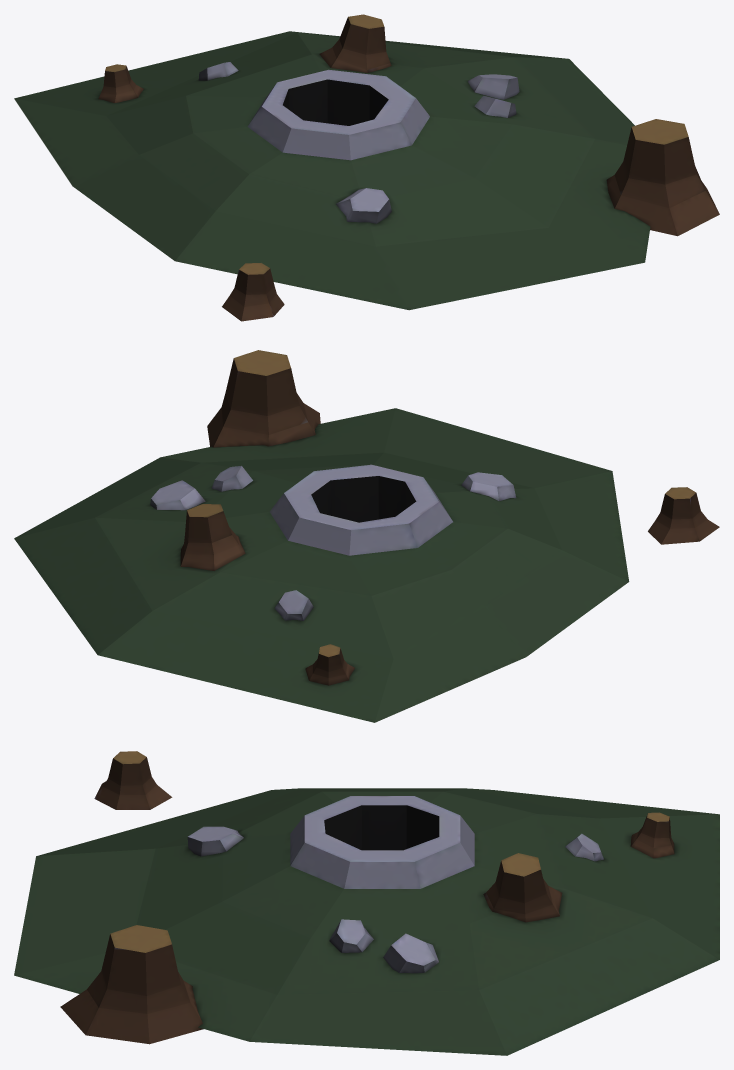
The model's file is waste_3_ruin.fbx.
The picture shows the model from 3 angles, top to bottom: view 1: azimuth 30°, elevation 25°; view 2: azimuth 150°, elevation 25°; view 3: azimuth 270°, elevation 25°; orthographic projection. The views are drawn at different scales.
Parts seen in each view (by area): view 1: waste_3_ruin; view 2: waste_3_ruin; view 3: waste_3_ruin.
Part boxes in pixels (x1,y1,x2,y2): waste_3_ruin: [14, 14, 719, 321]; waste_3_ruin: [14, 350, 719, 722]; waste_3_ruin: [14, 751, 719, 1055].
Size of the model in its own units: 0.0306 by 0.00487 by 0.0336.
